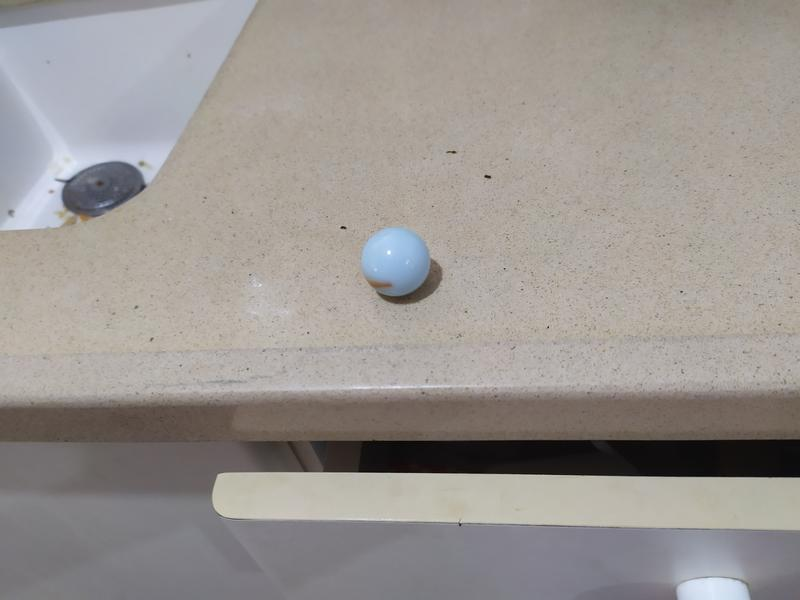Warning: (358, 224, 434, 300)
